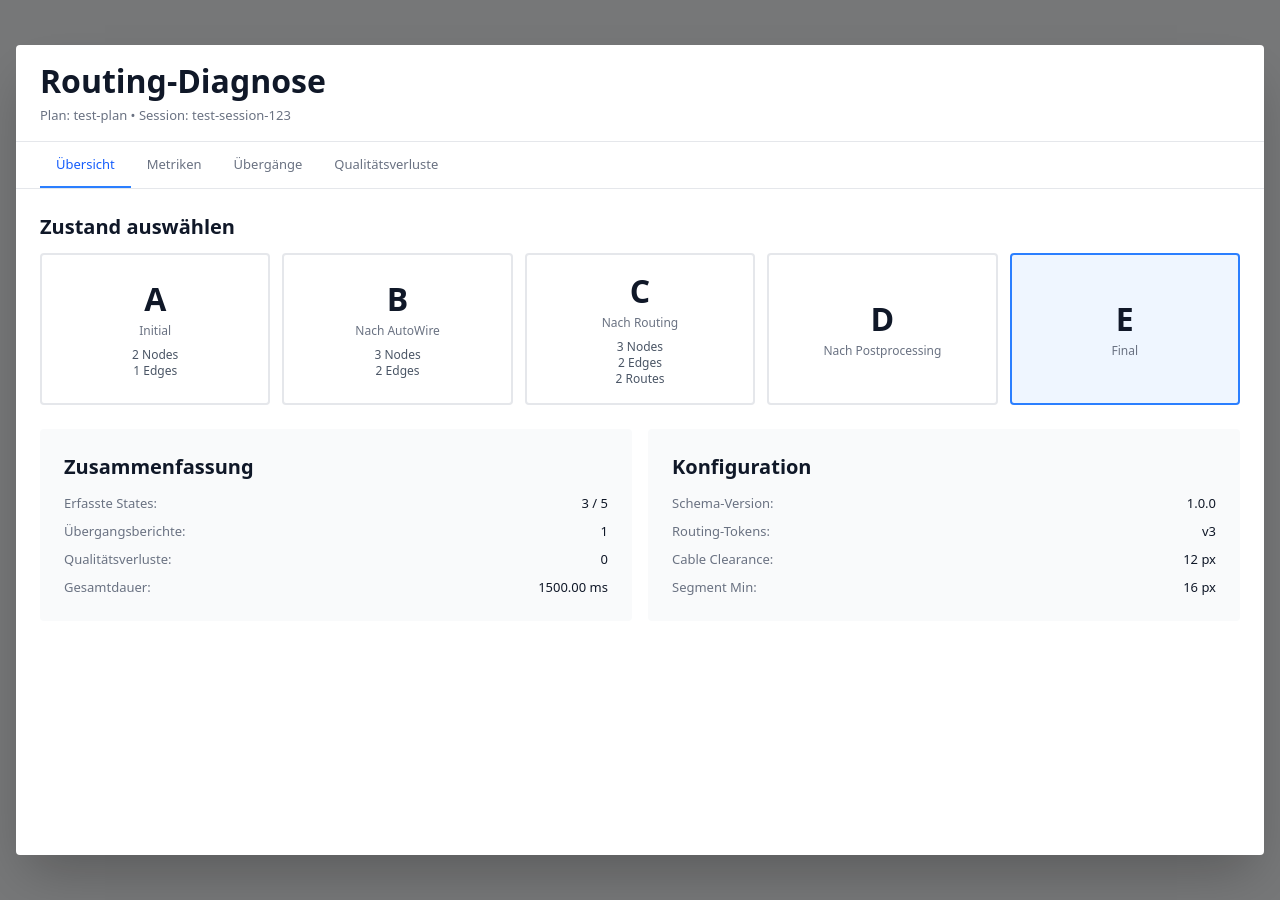
Test: DiagnosticViewer › should switch between tabs
This screenshot has width=1280, height=900.
Standard-Tab ist "Übersicht", also klicken wir auf "Metriken"
Click the button "Metriken".
click(174, 165)  # box left=131, top=142, right=218, bottom=188
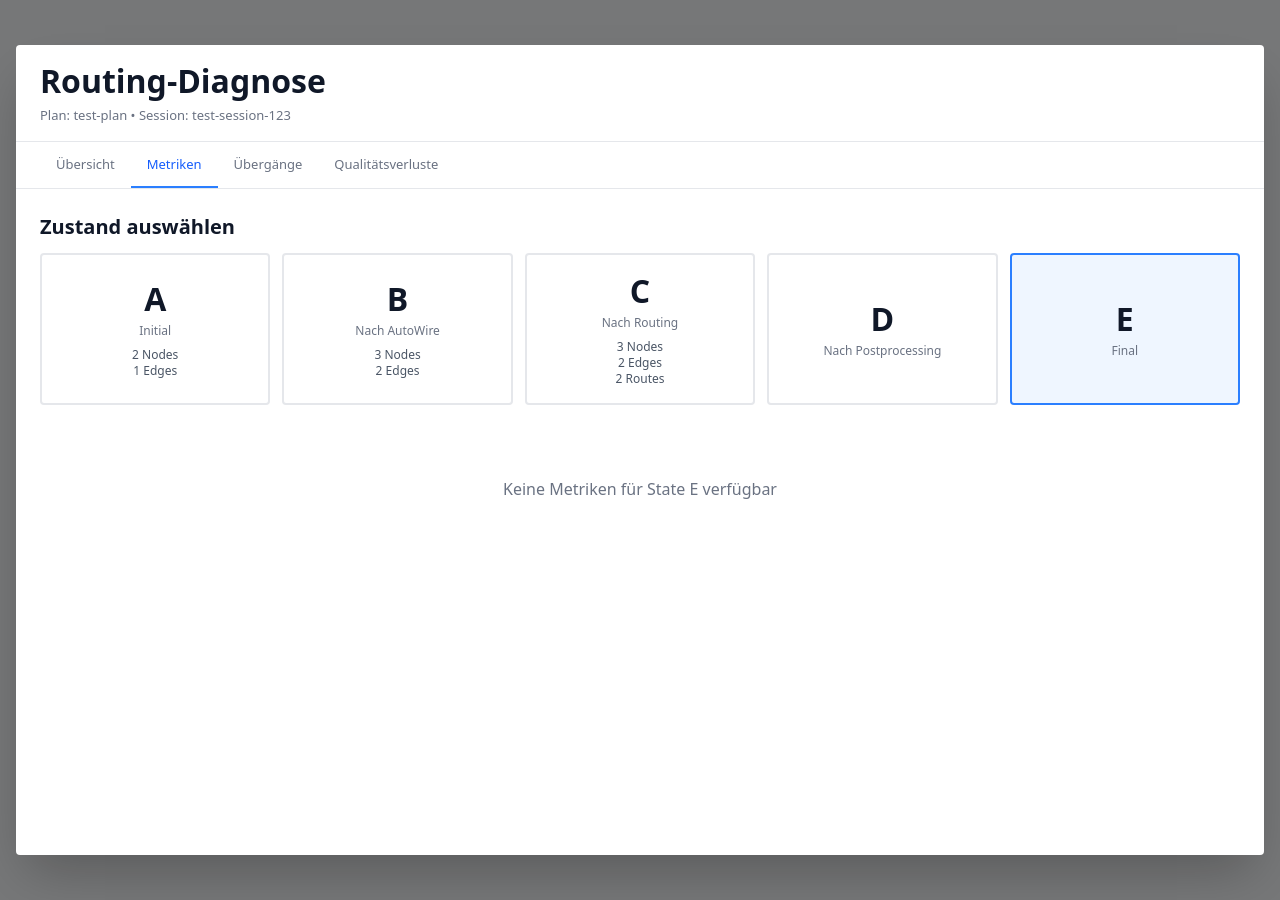
Wähle State C, der Metriken hat
Click the text "Nach Routing".
click(640, 322)  # box left=602, top=314, right=678, bottom=331
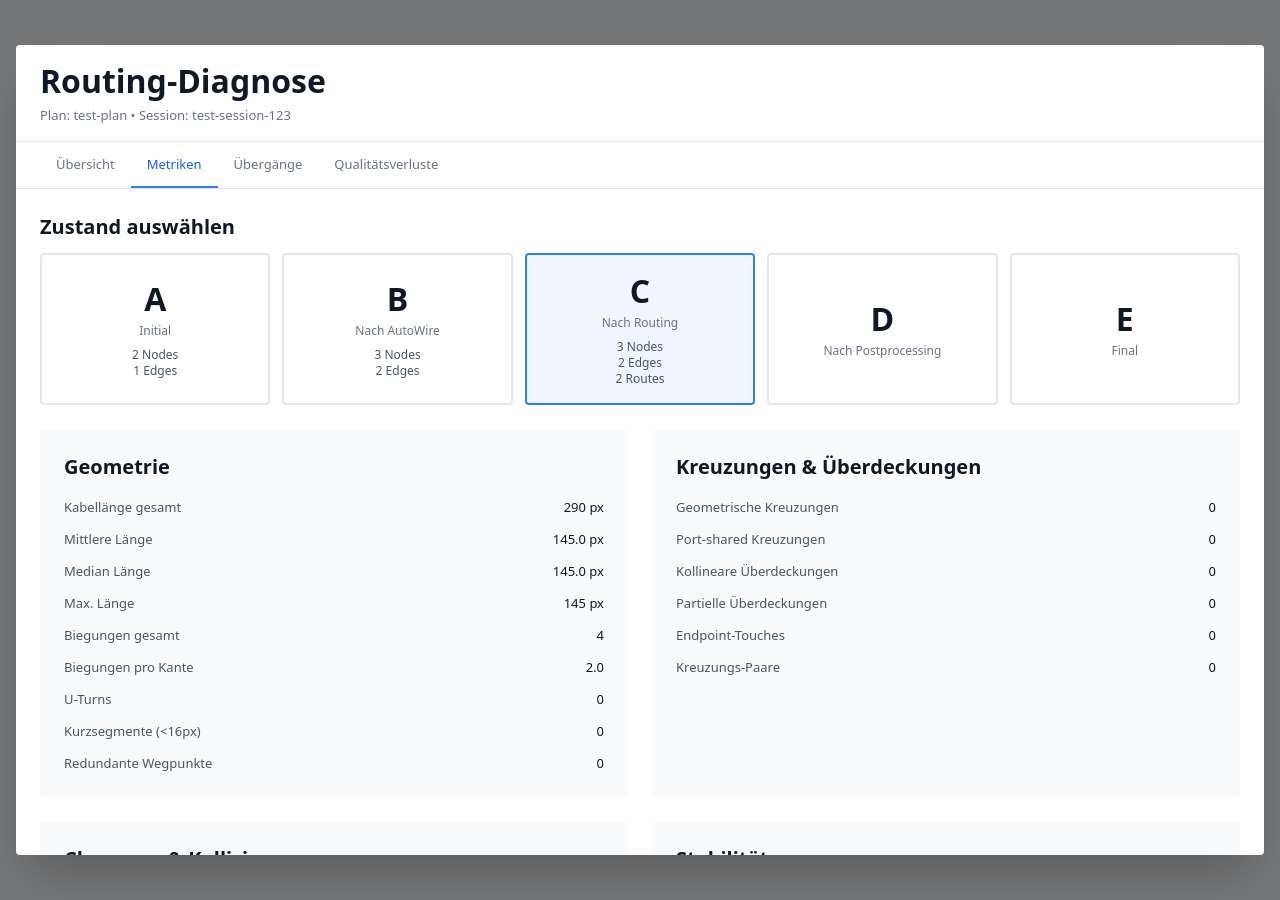
Now the text "Kabellänge gesamt" is shown, box left=64, top=497, right=181, bottom=517
